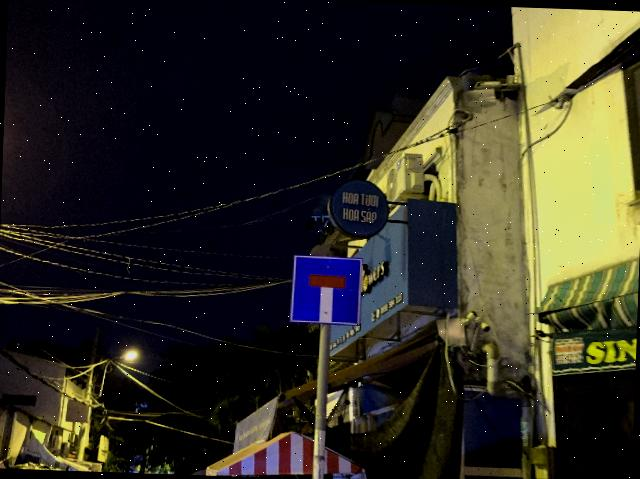duong-cut: (290, 254, 362, 326)
